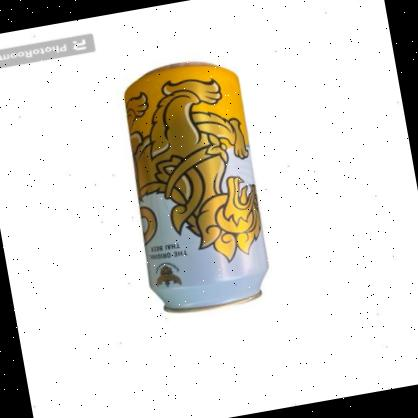can: (118, 53, 276, 319)
